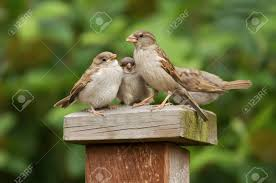hsparrow: (125, 29, 215, 119), (45, 48, 124, 114), (118, 55, 148, 111)
